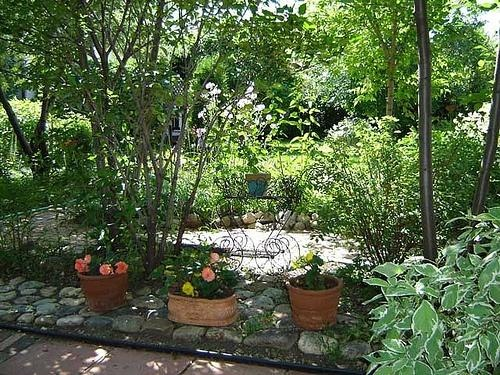pottedplant: (165, 253, 241, 328), (287, 251, 344, 334), (72, 253, 131, 312)
